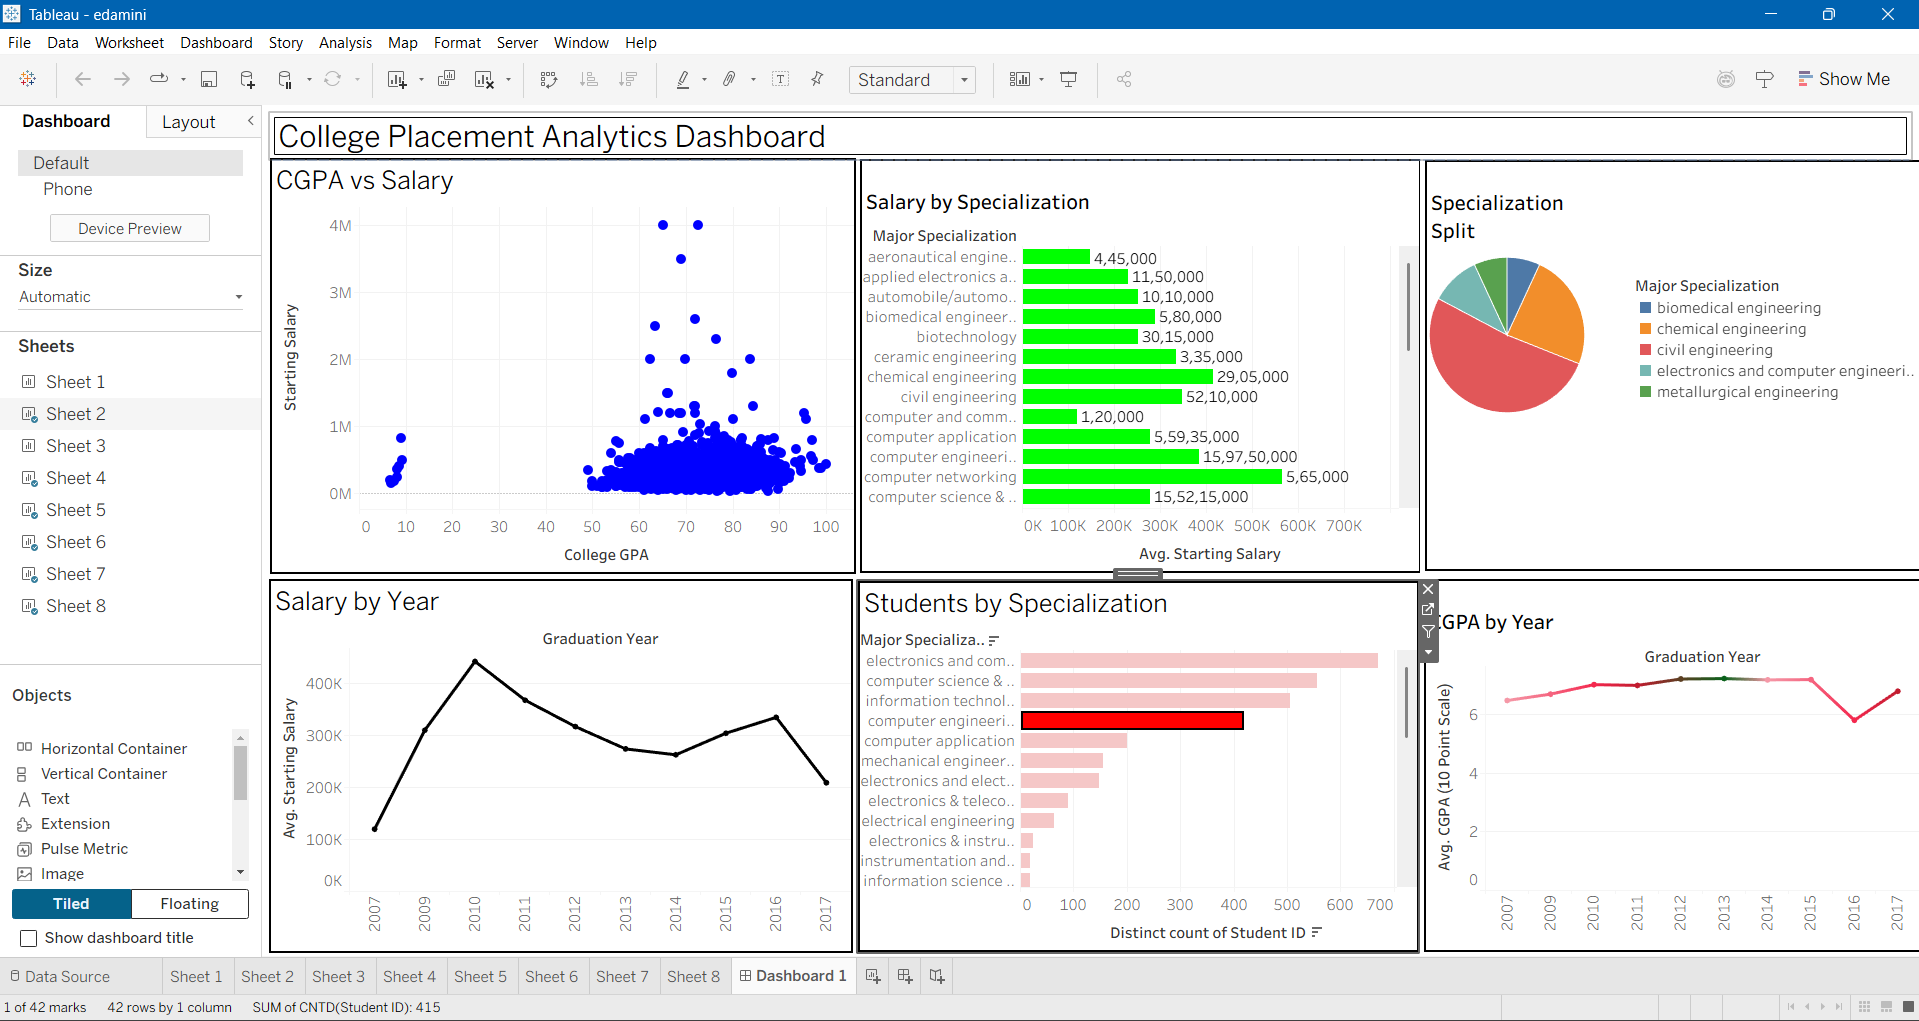

The dashboard page shown, as its layout file describes it:
{"tool":"tableau","page":{"name":"Dashboard 1","canvas":[1000,1000],"units":"permille","ordinal":0},"visuals":[{"type":"title","box":[6.4,9.4,987.3,54.1]},{"type":"worksheet","title":"Sheet 4","mark":"Circle","rows":["Starting_Salary"],"cols":["collegeGPA"],"box":[4.8,62.3,353.4,488.8]},{"type":"worksheet","title":"Sheet 6","mark":"Bar","rows":["MajorSpecialization"],"cols":["Starting_Salary"],"box":[360.6,63.5,338.5,486.5]},{"type":"legend","title":"Sheet 8","param":"[federated.1jm04g61s4jdms158pdyq094vyl6].[none:MajorSpecialization:nk]","box":[828.4,199.8,174.6,149.2]},{"type":"worksheet","title":"Sheet 5","mark":"Line","rows":["Starting_Salary"],"cols":["GraduationYear"],"box":[4.2,557,352.2,439.5]},{"type":"worksheet","title":"Sheet 7","mark":"Line","rows":["Calculation_0396696765886464"],"cols":["GraduationYear"],"box":[701.5,557,299.7,438.3]},{"type":"worksheet","title":"Sheet 2","mark":"Automatic","rows":["MajorSpecialization"],"cols":["Student_ID"],"box":[359.4,559.3,338.5,436]}]}

Visuals, with their boxes on the dashboard's canvas, which has no fixed pixel size, in thousandths of its width and height (x1, y1, x2, y2). These are canvas units, not pixel positions in the 1919x1021 screenshot, which may show the page scaled, cropped or inside an application window:
title: Rect(6, 9, 994, 64)
"Sheet 4" worksheet (Circle marks): Rect(5, 62, 358, 551)
"Sheet 6" worksheet (Bar marks): Rect(361, 64, 699, 550)
"Sheet 8" legend: Rect(828, 200, 1003, 349)
"Sheet 5" worksheet (Line marks): Rect(4, 557, 356, 996)
"Sheet 7" worksheet (Line marks): Rect(702, 557, 1001, 995)
"Sheet 2" worksheet: Rect(359, 559, 698, 995)
